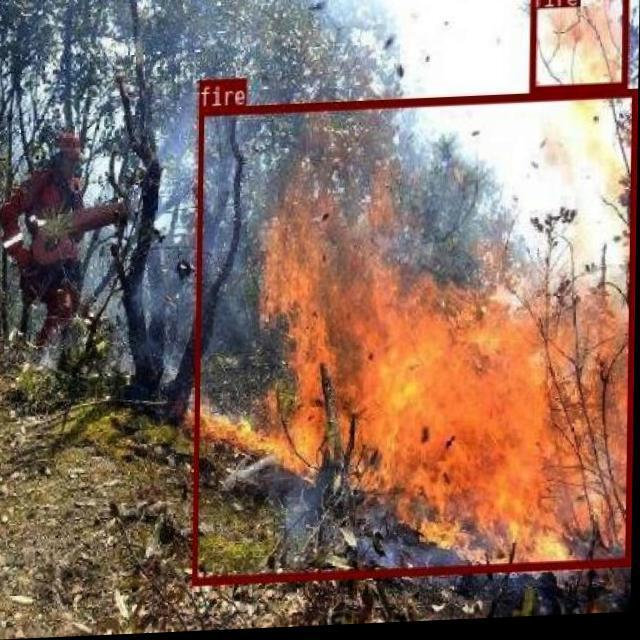Fire: (204, 95, 638, 580), (536, 0, 634, 91)
Smoke: (71, 0, 525, 597)
